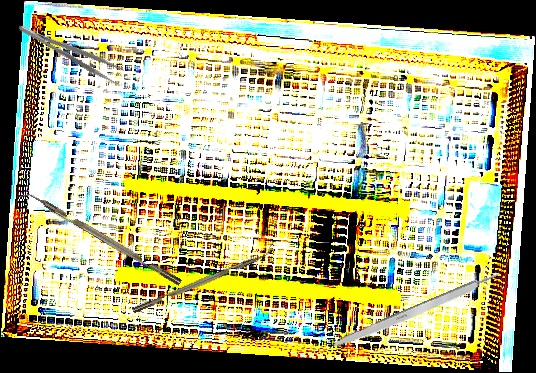Chopper: (17, 186, 183, 294), (129, 243, 276, 314)
Dressing Forceps: (16, 14, 126, 87)
Scalpel Handle: (327, 270, 503, 354)
